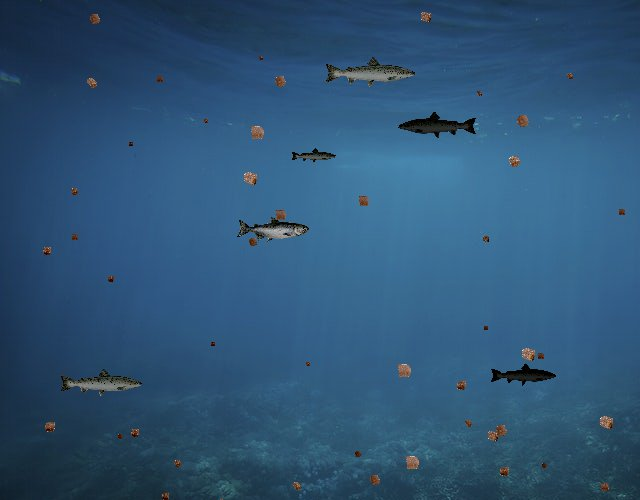Fish: (323, 55, 417, 89), (58, 367, 144, 398), (397, 110, 478, 140), (236, 217, 309, 243), (490, 362, 558, 386), (290, 148, 337, 165)
Pellet: (510, 108, 536, 134), (502, 149, 527, 174), (80, 72, 102, 94), (478, 232, 492, 246), (538, 460, 551, 473), (200, 115, 210, 126)
